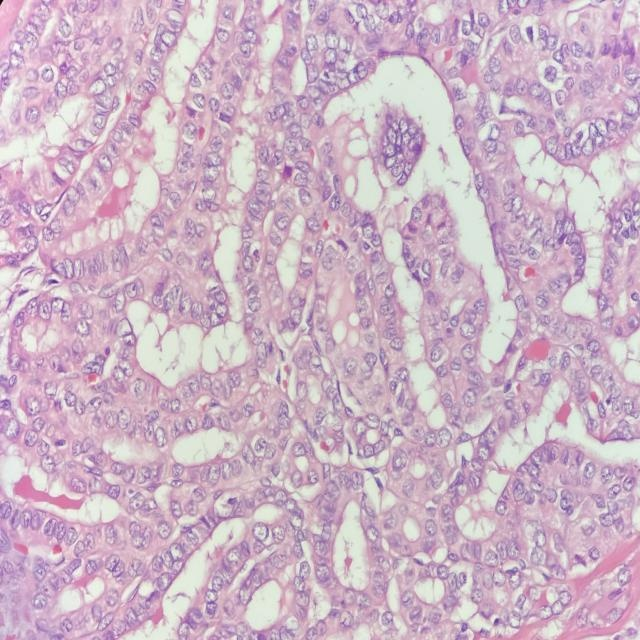TC: (387, 444, 416, 479), (213, 401, 236, 437), (204, 458, 225, 492), (387, 328, 409, 359), (339, 351, 361, 381), (291, 372, 312, 401), (244, 292, 268, 317), (362, 344, 381, 375), (255, 336, 274, 366), (243, 201, 268, 223), (427, 340, 445, 370), (186, 294, 206, 321), (458, 319, 479, 344), (271, 208, 292, 233), (361, 409, 384, 431), (182, 412, 198, 443), (286, 304, 305, 330), (194, 250, 212, 276), (289, 439, 310, 461), (296, 260, 317, 281), (408, 200, 426, 224), (410, 421, 428, 444), (354, 294, 370, 318), (436, 426, 452, 450), (361, 222, 381, 241), (380, 298, 396, 321), (253, 435, 269, 457), (423, 250, 434, 282), (361, 438, 374, 465), (450, 355, 465, 376)
